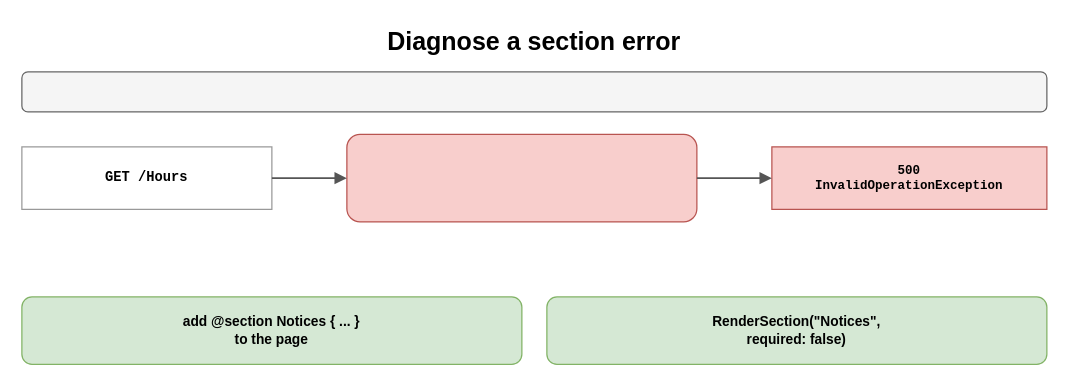
This 1069x386 diagram has some shape labels left out. Each missing label, with the centre of its shape:
_Layout: @RenderSection("Notices") required · page defines none: point 521,177
A required section the page omits throws while rendering: point 534,91
